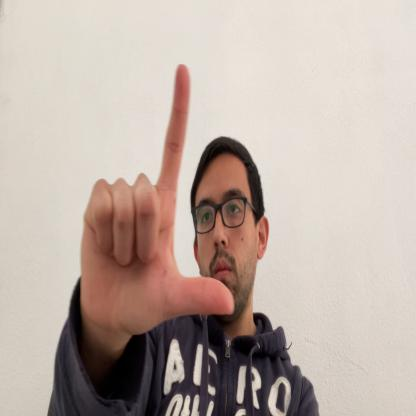L: (80, 63, 235, 340)
